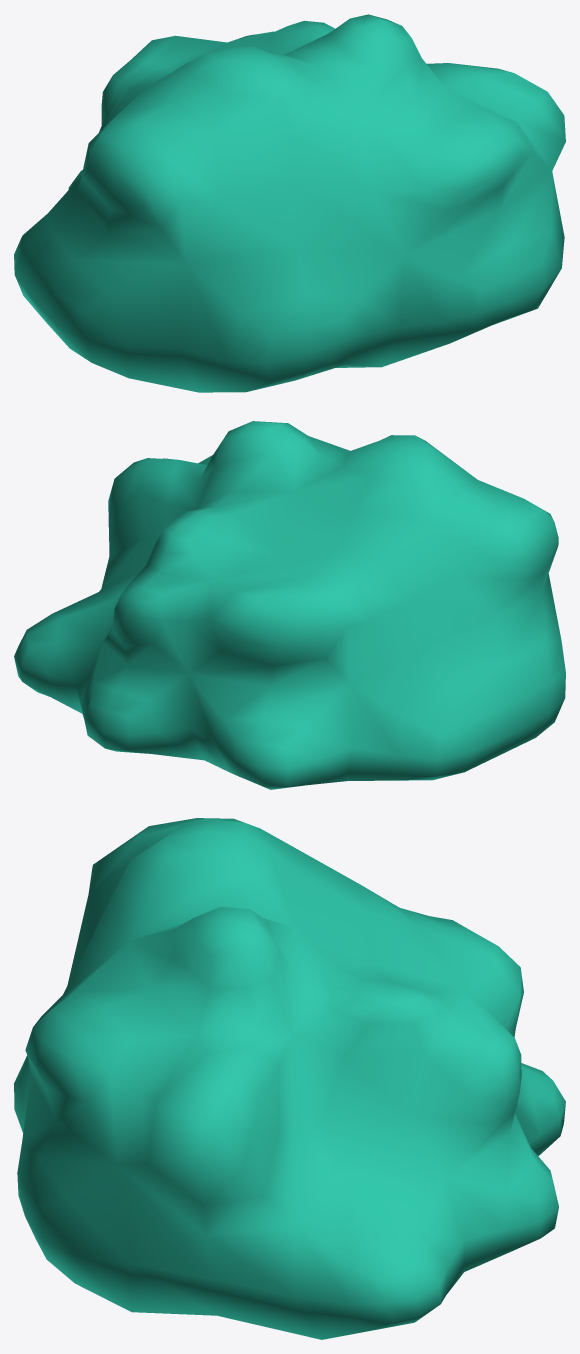
File: rumbut.fbx
3 renders of one model, top to bottom at view 1: azimuth 30°, elevation 25°; view 2: azimuth 150°, elevation 25°; view 3: azimuth 270°, elevation 25°, orthographic. The views are drawn at different scales.
Visible parts, largest first — view 1: Cube.001; view 2: Cube.001; view 3: Cube.001.
Part boxes in pixels (x1,y1,x2,y2): Cube.001: [14, 14, 565, 392]; Cube.001: [14, 421, 565, 789]; Cube.001: [14, 818, 565, 1339].
Size of the model in its own units: 240 by 133 by 194.
